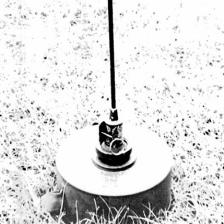M21: (53, 112, 185, 224)
